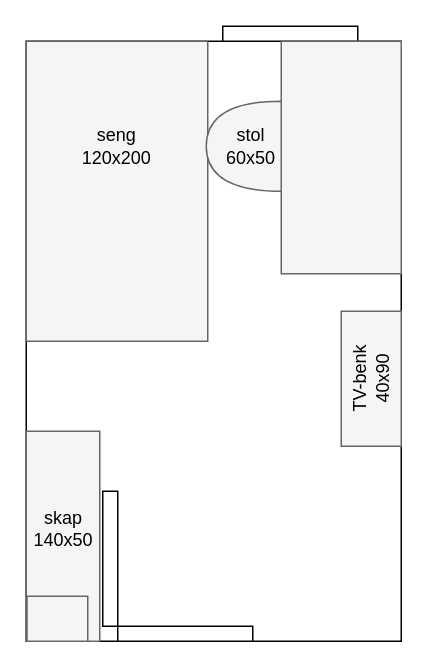
This 428x668 diagram has some shape labels left out. Each missing label, with the centre of its shape:
"hylle 30x40" goes at pixel 57 618.
"skrivebord 80x150" goes at pixel 340 157.
